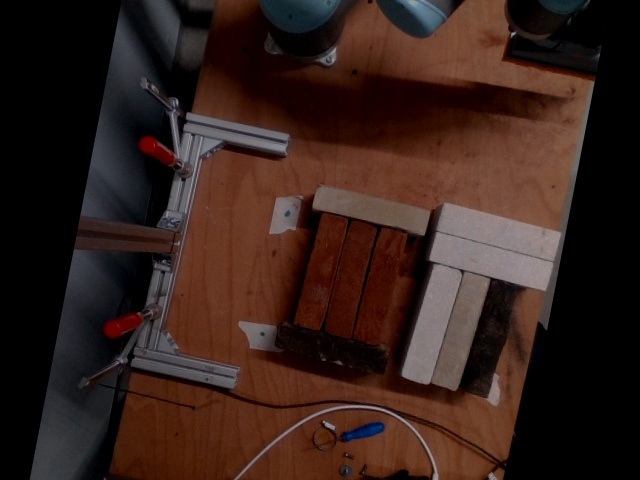brick-side: (400, 263, 463, 384), (430, 231, 552, 292), (458, 277, 519, 398), (438, 200, 559, 260), (431, 269, 491, 390), (296, 214, 348, 330), (355, 230, 406, 346), (277, 322, 389, 374), (324, 223, 375, 337), (315, 185, 428, 233), (282, 479, 400, 479), (339, 479, 363, 479)
